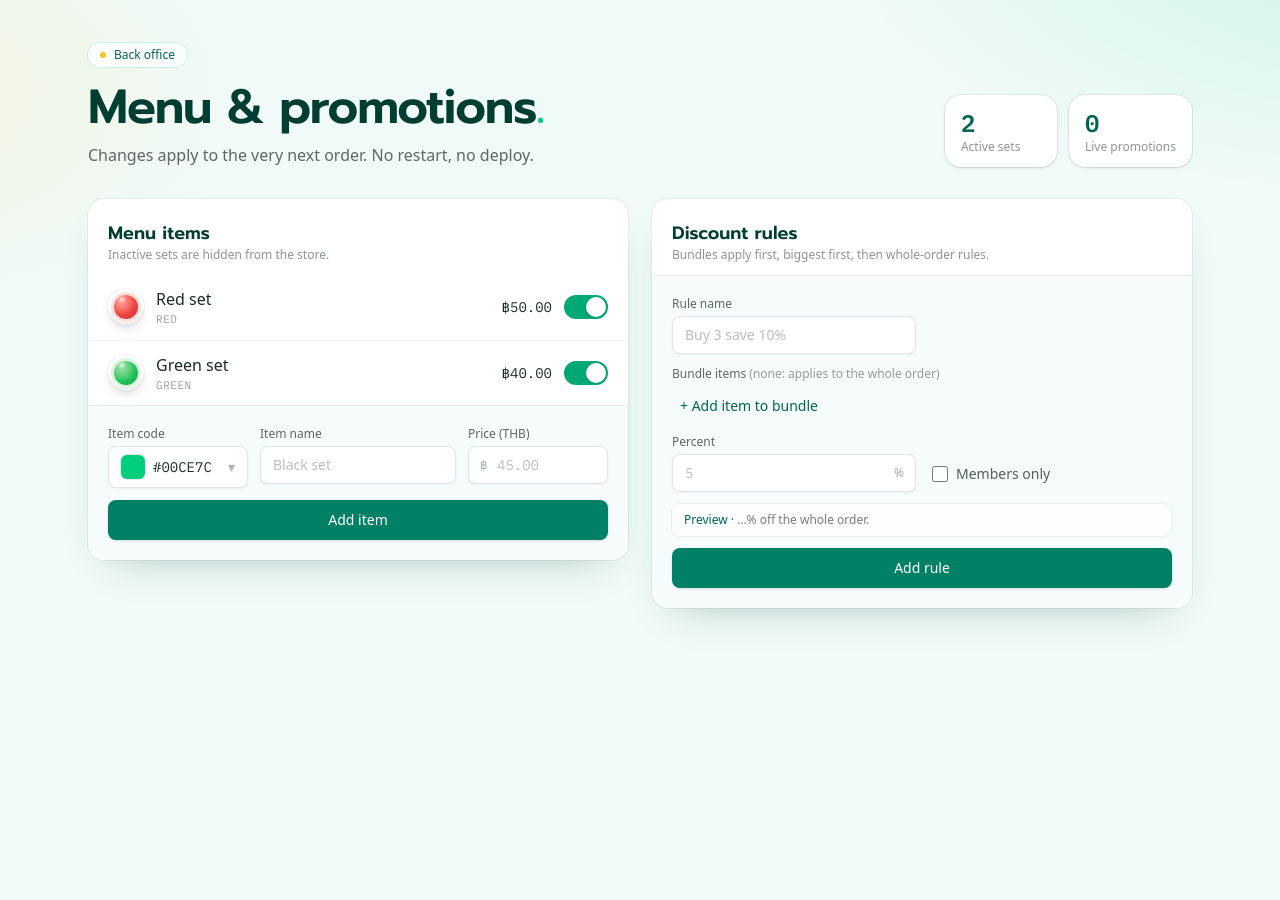
Admin › removes a bundle row
Check: the text "RED" is shown, box [156, 312, 178, 326]
Click the button "+ Add item to bundle".
click(749, 406)  # box [672, 390, 826, 422]
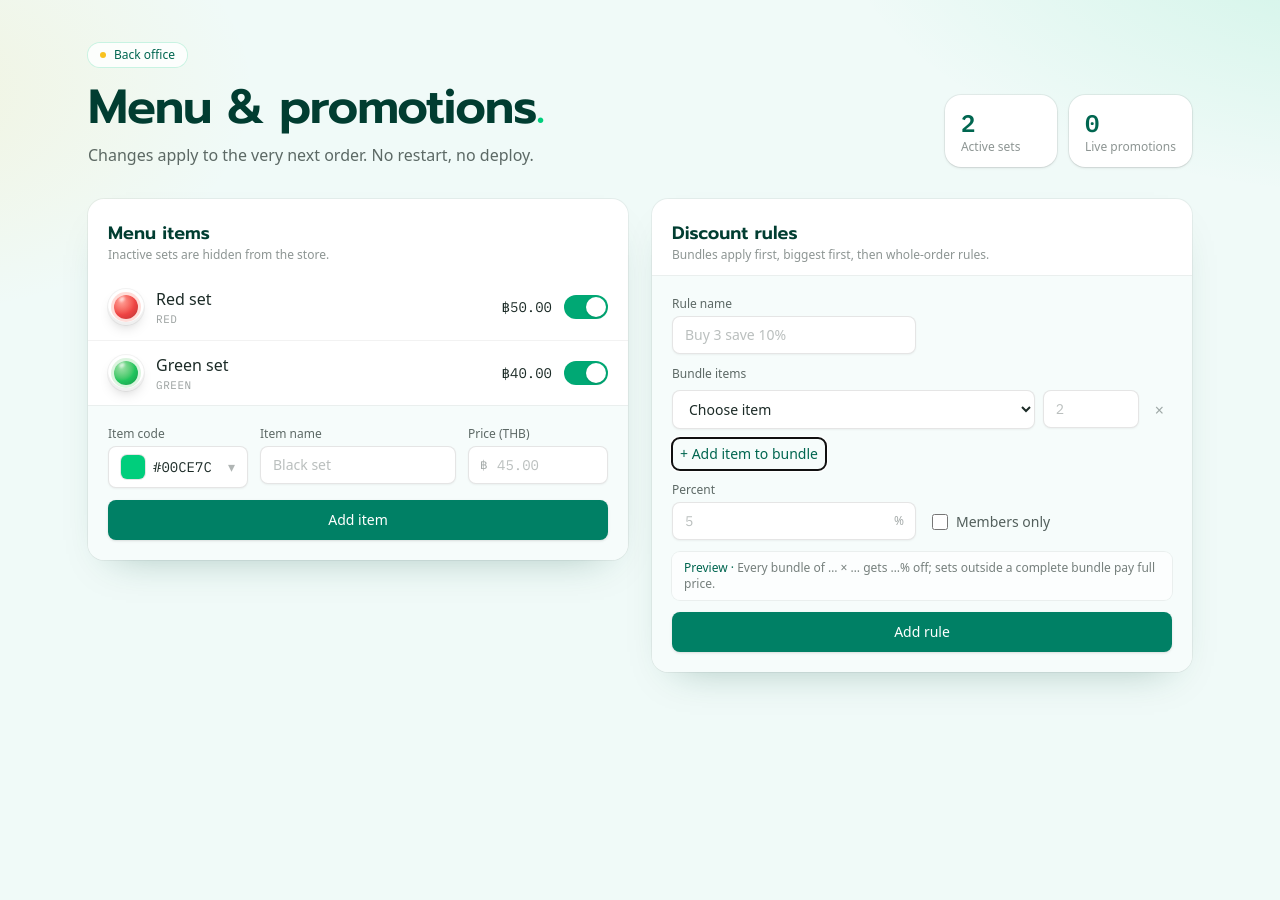
Click the button "+ Add item to bundle".
click(749, 454)  # box [672, 438, 826, 470]
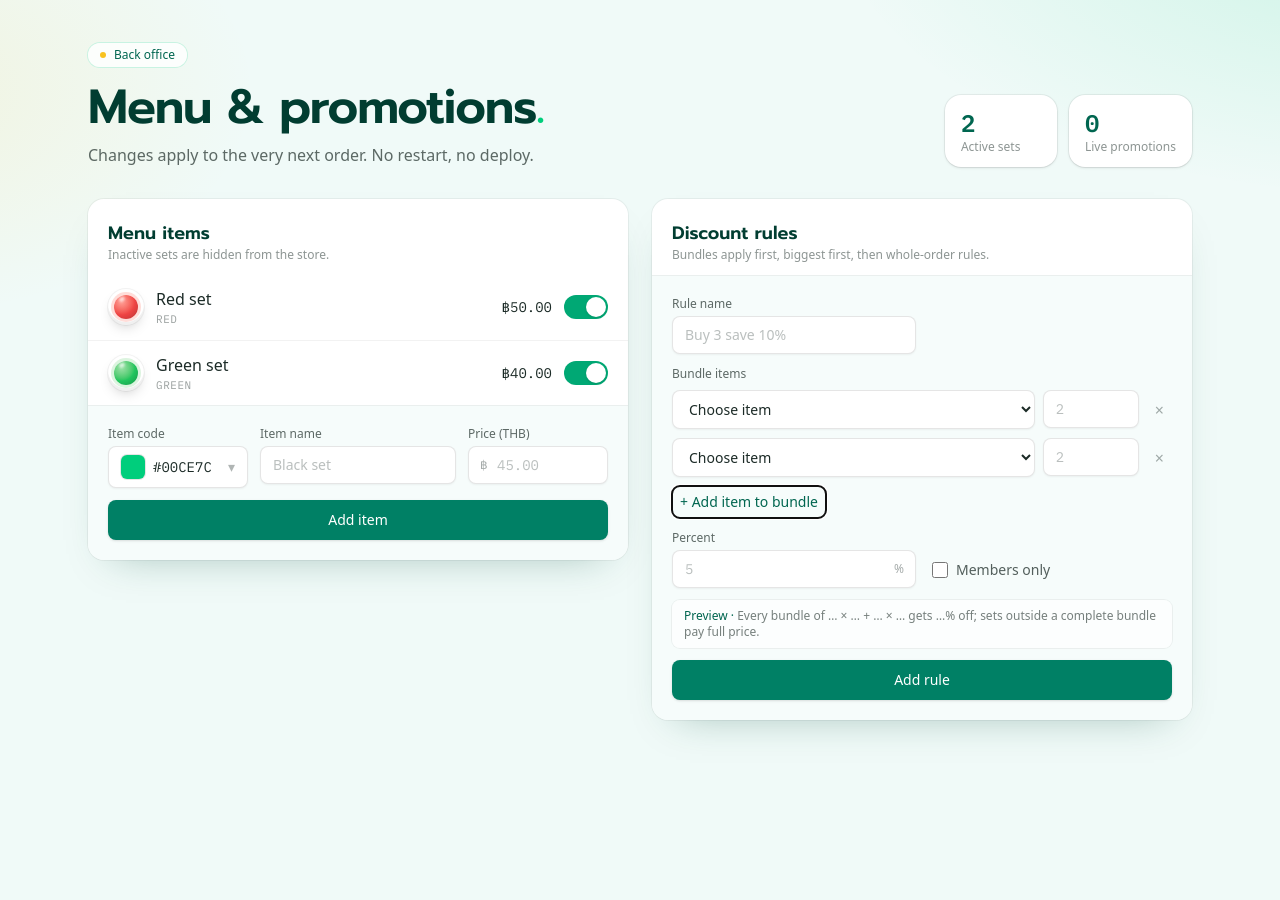
Click the button named "Remove bundle item 1".
click(1159, 410)  # box [1147, 390, 1172, 430]
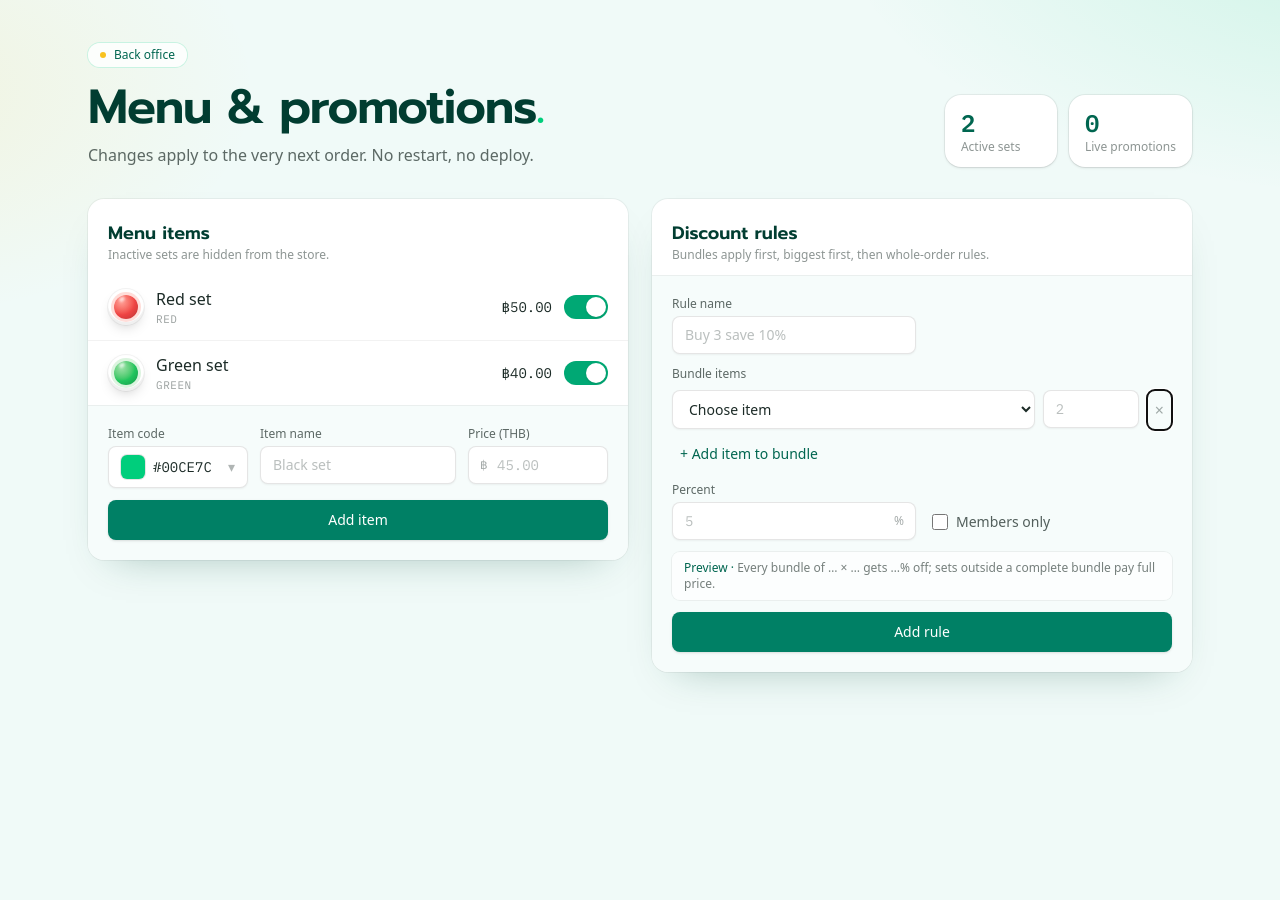
Check: the number of dropdowns named "Bundle item" is 1, box [672, 390, 1035, 429]
